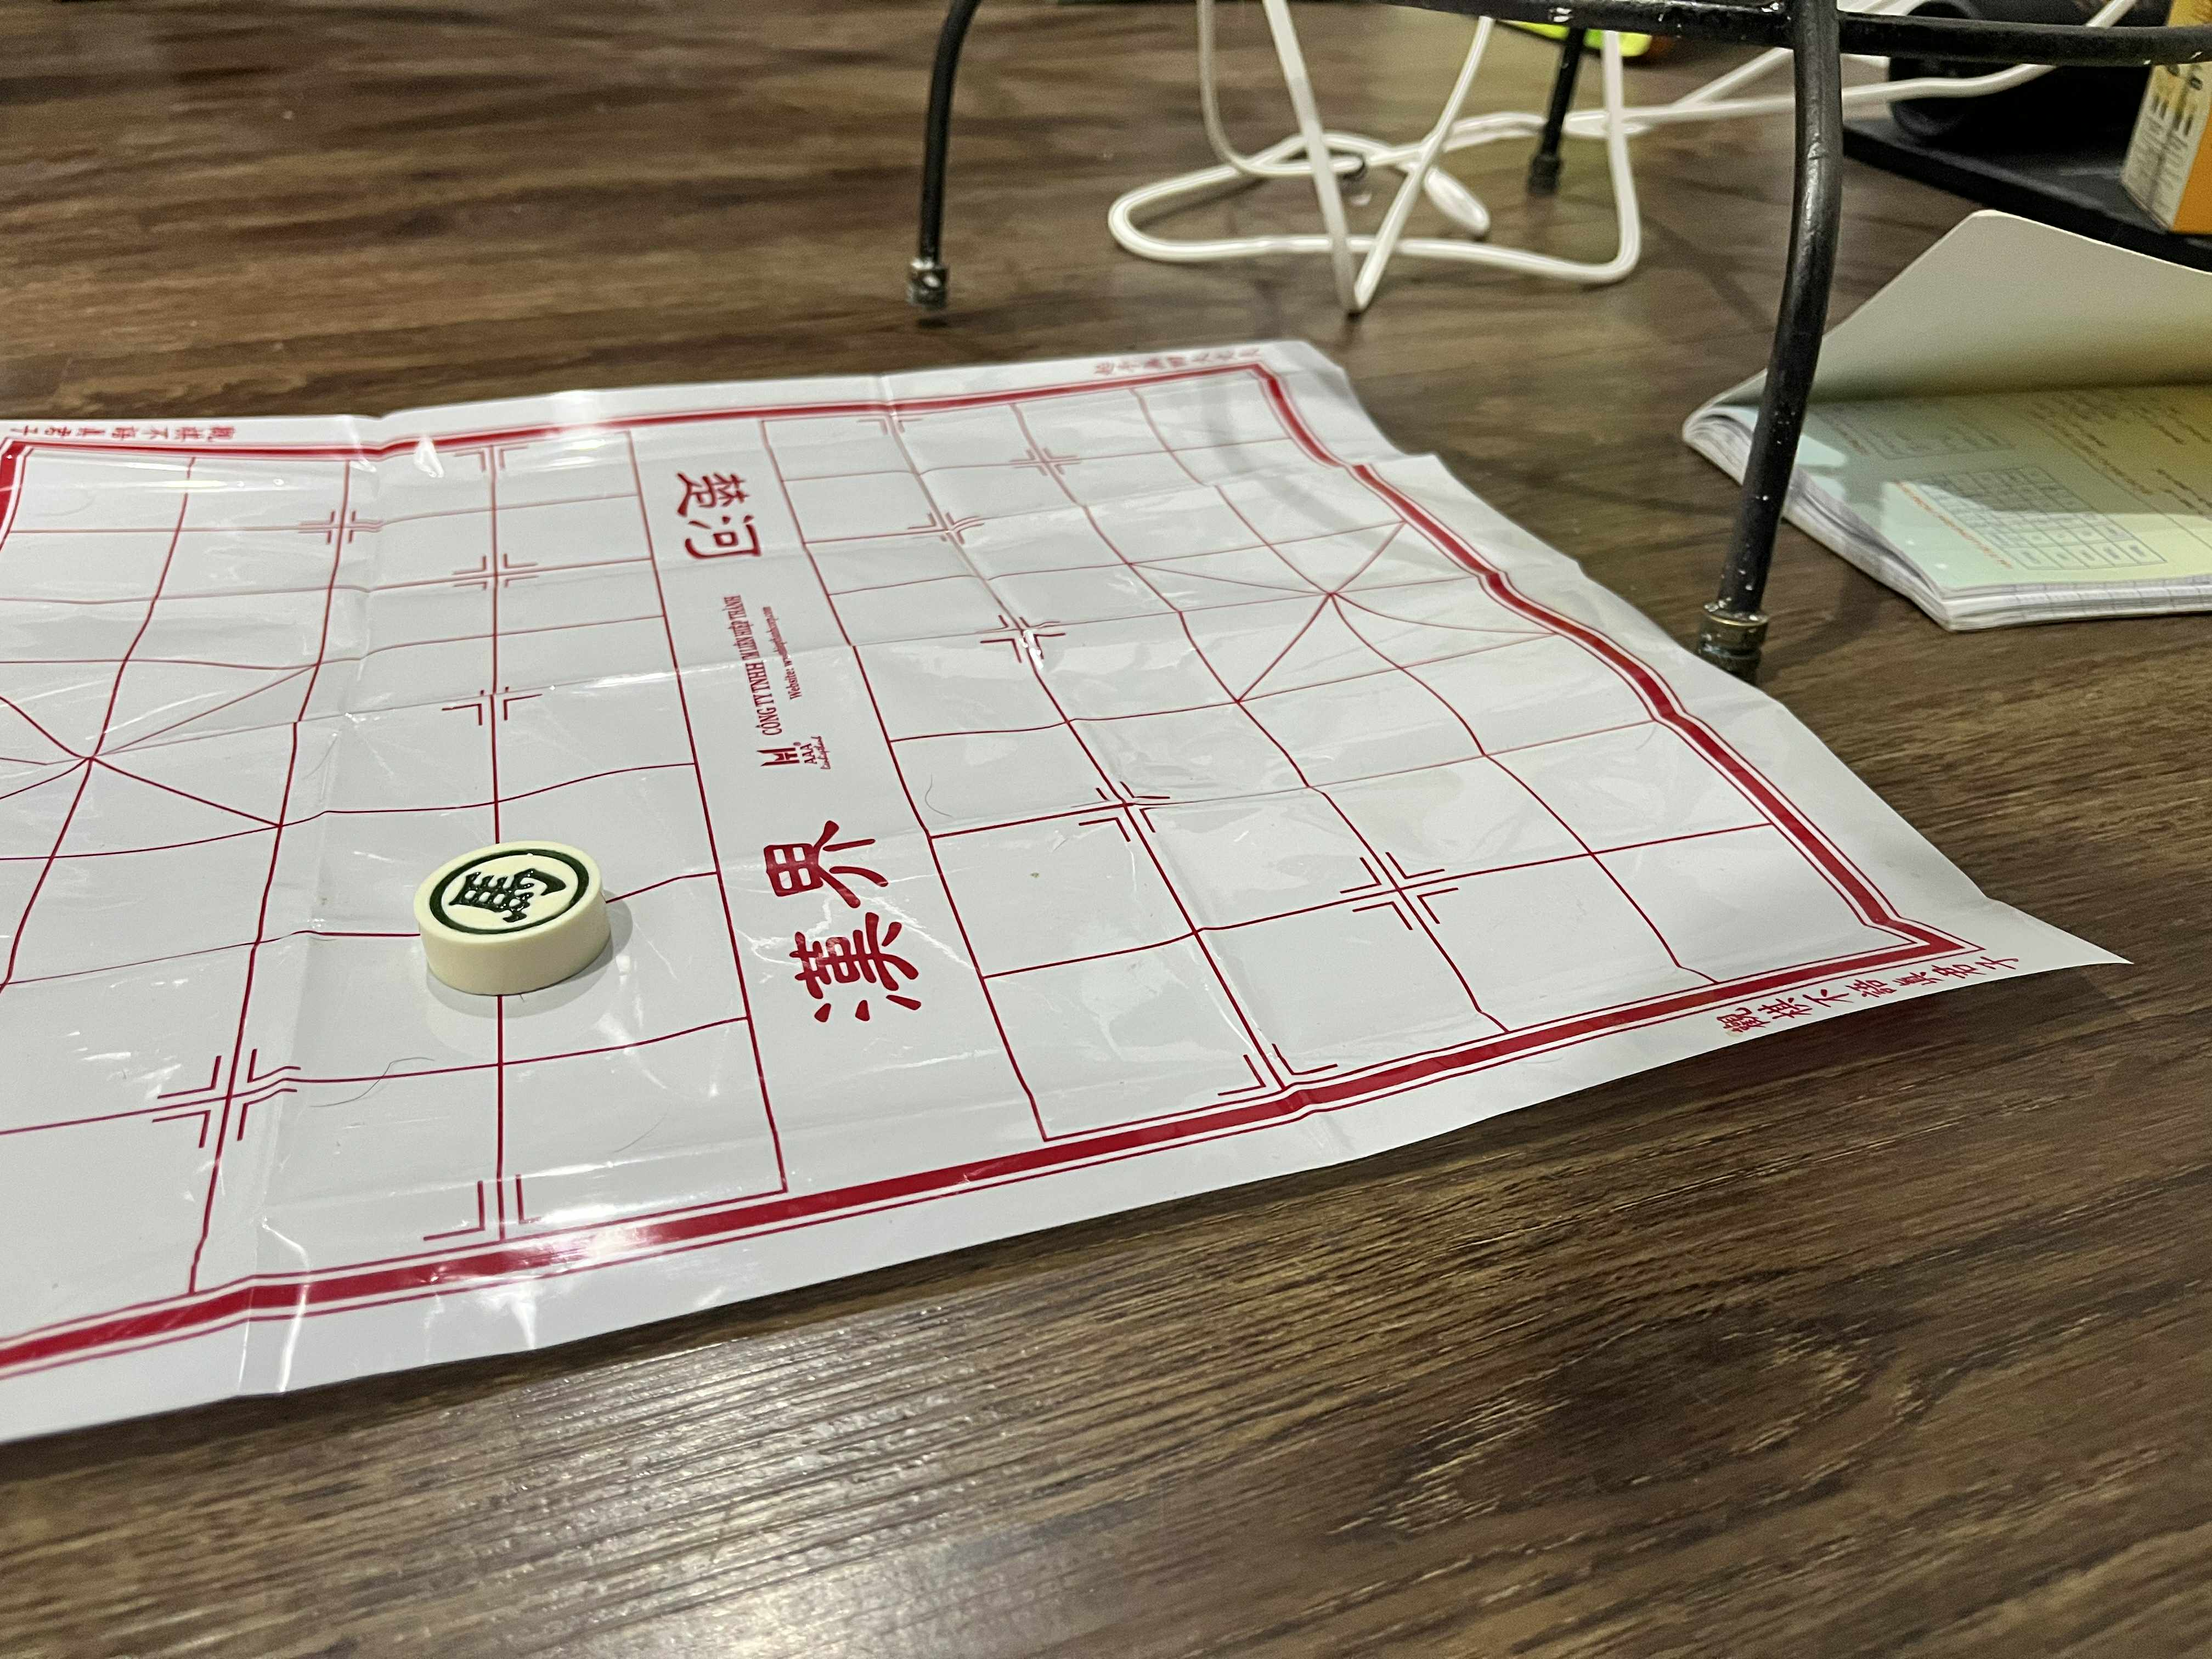black-horse: (410, 840, 600, 947)
